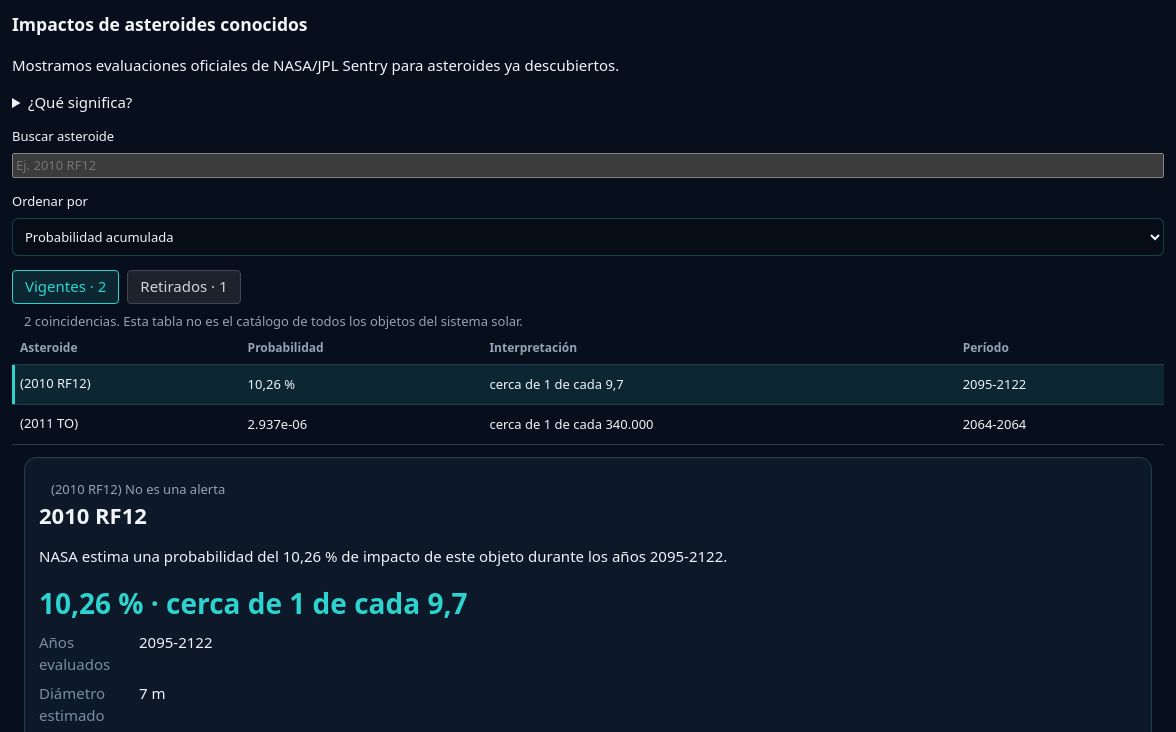
Scenario: Sentry › conserva una probabilidad diminuta y no la muestra como cero
Click the button "(2011 TO)": (126,424) [20,415,232,432]
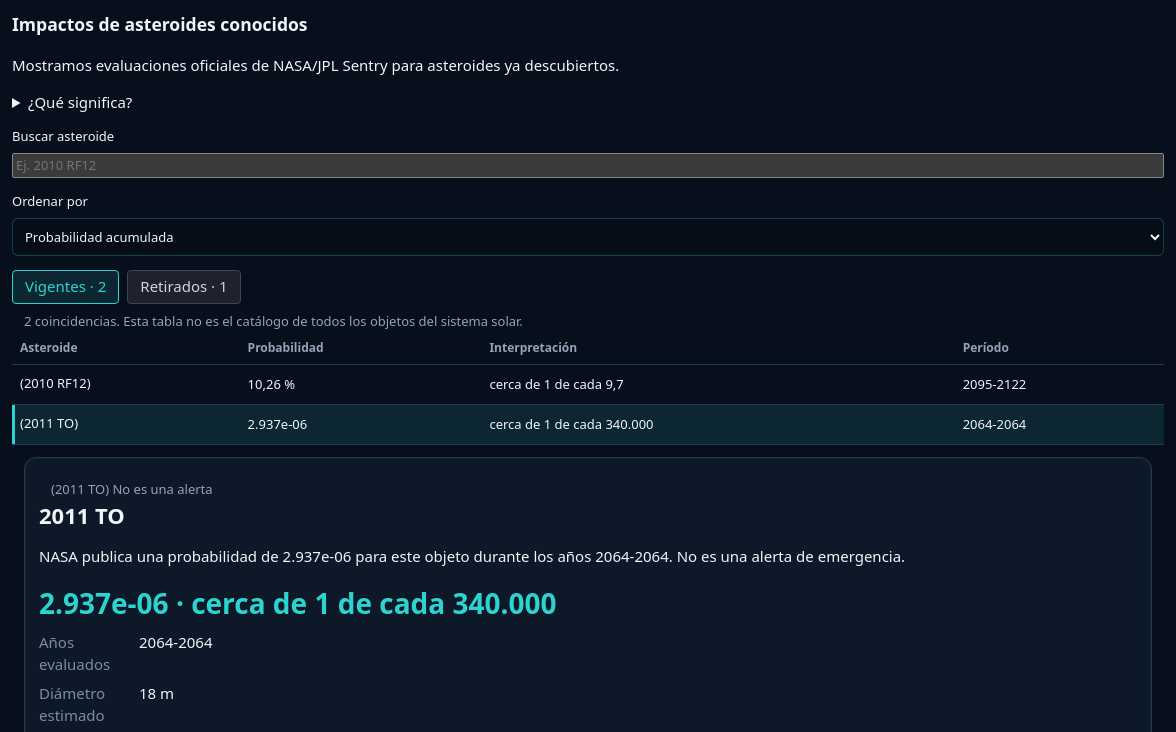
Now the text "2.937e-06 · cerca de 1 de cada 340.000" is shown, box [39,584,557,622]
